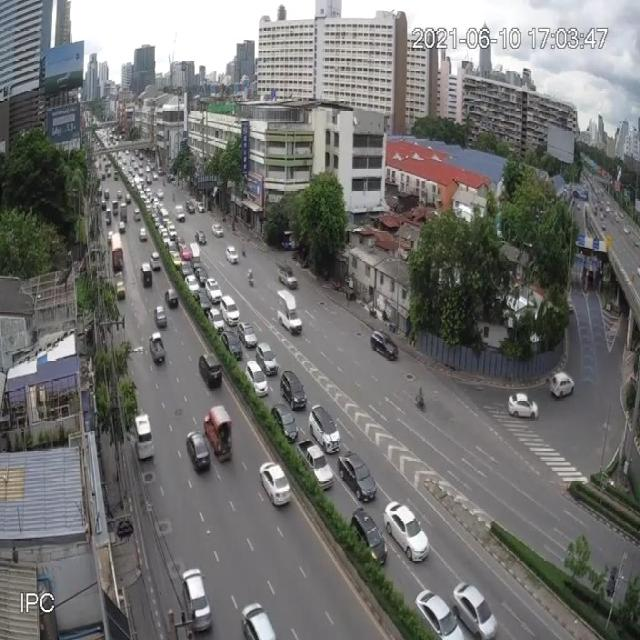Bus: (110, 233, 124, 274)
Car: (384, 501, 430, 562), (452, 581, 497, 640), (414, 588, 464, 640), (350, 507, 386, 566), (338, 449, 376, 502), (181, 568, 211, 634), (259, 460, 292, 508), (308, 404, 341, 452), (240, 602, 278, 640), (270, 403, 299, 442), (280, 372, 308, 412), (185, 429, 211, 472), (134, 412, 154, 461), (370, 330, 399, 361), (198, 353, 222, 389), (246, 360, 269, 397), (508, 391, 538, 419), (255, 342, 277, 375), (220, 328, 242, 359), (549, 372, 574, 399), (220, 294, 239, 326), (237, 320, 258, 348), (278, 267, 298, 290), (207, 306, 224, 333), (205, 279, 222, 306), (184, 275, 200, 299), (154, 304, 168, 328), (192, 265, 208, 286), (164, 288, 179, 309), (225, 245, 239, 264), (115, 277, 126, 300), (180, 260, 193, 278), (171, 250, 182, 270), (150, 250, 161, 269), (194, 230, 207, 246), (211, 223, 224, 238), (180, 246, 192, 262), (167, 223, 177, 242), (167, 240, 177, 258), (139, 226, 147, 242), (105, 207, 112, 224), (186, 200, 195, 213), (176, 238, 185, 251), (133, 206, 141, 220), (196, 202, 206, 213), (161, 233, 171, 244), (118, 220, 126, 233), (155, 189, 164, 199), (108, 230, 114, 244), (125, 192, 132, 204), (101, 197, 106, 210), (117, 188, 122, 200), (101, 170, 106, 179), (114, 169, 118, 178), (602, 222, 606, 230)
Cycle: (415, 392, 427, 414), (247, 272, 253, 288)
Truck: (298, 440, 334, 492), (149, 333, 166, 363)
Van: (203, 405, 232, 462), (276, 289, 302, 336), (190, 242, 201, 272), (140, 262, 152, 288), (160, 208, 170, 226)
